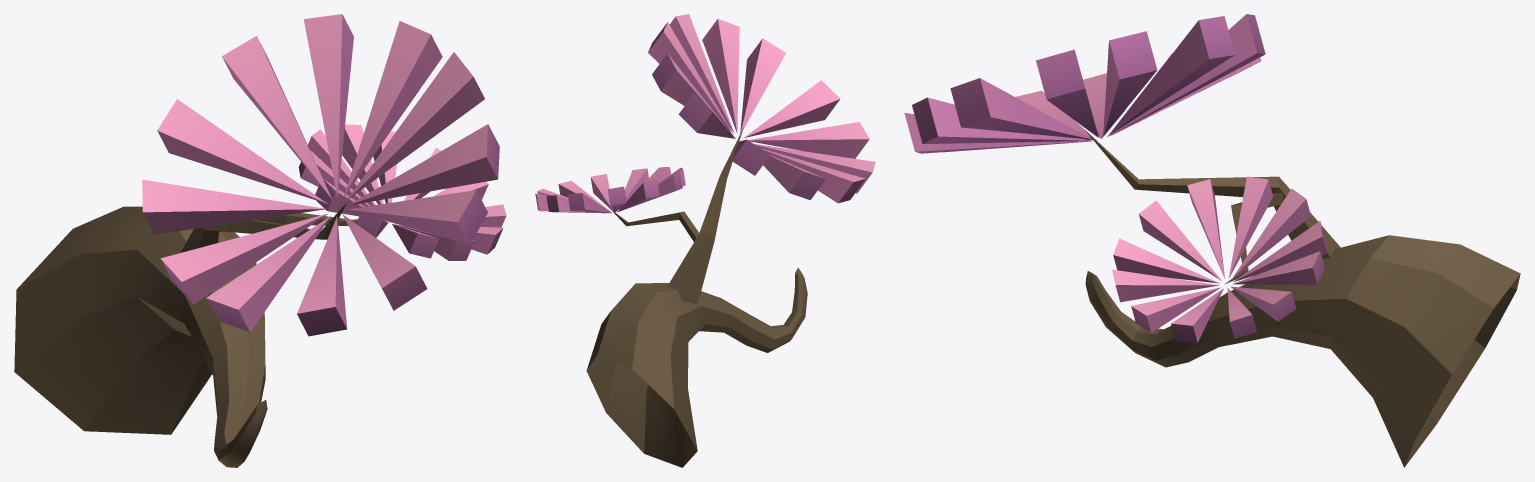
File: branch_pink_3.glb
3 views of the same model, side by side, from view 1: azimuth 30°, elevation 25°; view 2: azimuth 150°, elevation 25°; view 3: azimuth 270°, elevation 25° (orthographic). The views are drawn at different scales.
Visible parts, largest first — view 1: branch_pink_3; view 2: branch_pink_3; view 3: branch_pink_3.
Part boxes in pixels (x1,y1,x2,y2): branch_pink_3: (14, 14, 506, 467); branch_pink_3: (535, 14, 875, 467); branch_pink_3: (904, 14, 1520, 467).
Bounding box in the file's own units: 1.45 × 1.74 × 2.
1 material, 1 textured.
